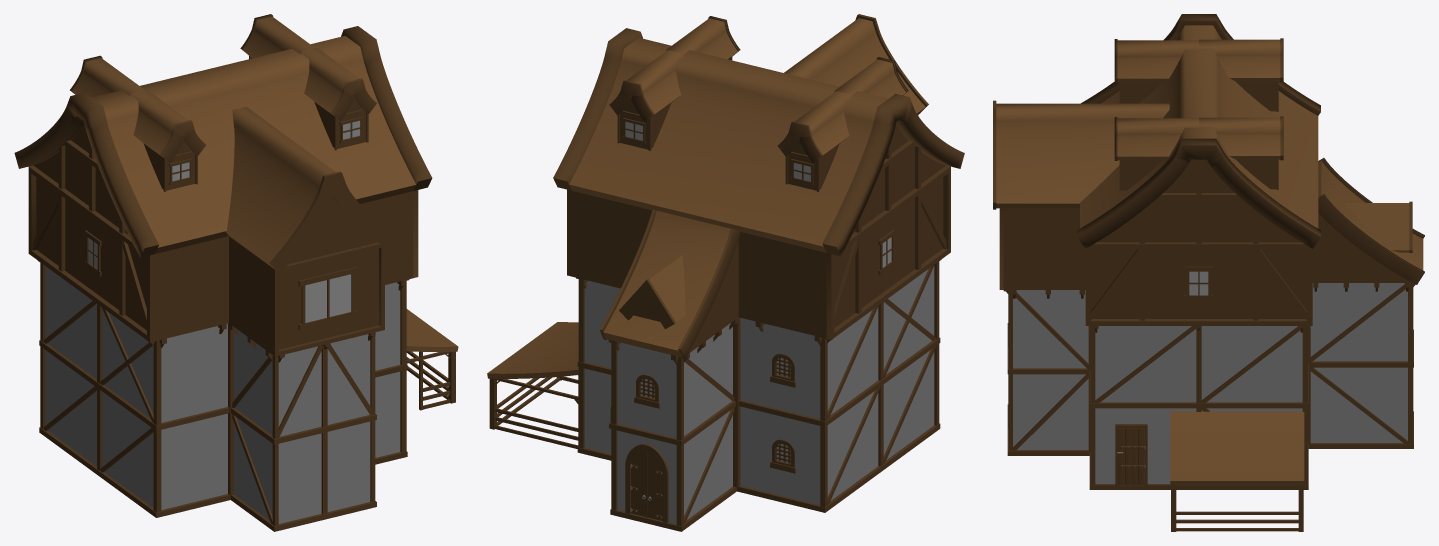
3 views of the same model, side by side, from view 1: azimuth 30°, elevation 25°; view 2: azimuth 150°, elevation 25°; view 3: azimuth 270°, elevation 25° (orthographic). The views are drawn at different scales.
Visible parts, largest first — view 1: Spline (×6), LeftWall (×6), RoofSpline (×6), BackWall (×3), FrontWall (×3), Spline 2D (×9), Cube (×12), Extrusion Spline (×2), Plank (×2); view 2: Spline (×5), RightWall (×5), RoofSpline (×11), BackWall (×3), Spline 2D (×8), Cube (×10), FrontWall (×2), Extrusion Spline (×2), Plank (×2); view 3: Spline (×10), FrontWall (×3), RoofSpline (×8), RightWall (×3), LeftWall (×2), Spline 2D (×10), Extrusion Spline (×2), Cube (×10).
Part boxes in pixels (bbox=[...]): Spline (×6): bbox=[14, 26, 458, 524]; LeftWall (×6): bbox=[154, 191, 413, 523]; RoofSpline (×6): bbox=[72, 16, 395, 273]; BackWall (×3): bbox=[36, 177, 153, 507]; FrontWall (×3): bbox=[279, 248, 377, 523]; Spline 2D (×9): bbox=[28, 165, 418, 531]; Cube (×12): bbox=[40, 102, 406, 525]; Extrusion Spline (×2): bbox=[34, 124, 377, 263]; Plank (×2): bbox=[160, 78, 376, 162]; Spline (×5): bbox=[487, 28, 964, 523]; RightWall (×5): bbox=[572, 191, 826, 523]; RoofSpline (×11): bbox=[599, 14, 928, 359]; BackWall (×3): bbox=[827, 177, 943, 500]; Spline 2D (×8): bbox=[577, 165, 950, 531]; Cube (×10): bbox=[578, 103, 939, 526]; FrontWall (×2): bbox=[620, 342, 675, 523]; Extrusion Spline (×2): bbox=[688, 125, 945, 353]; Plank (×2): bbox=[609, 80, 822, 162]; Spline (×10): bbox=[1013, 14, 1407, 484]; FrontWall (×3): bbox=[1090, 249, 1307, 483]; RoofSpline (×8): bbox=[996, 39, 1424, 284]; RightWall (×3): bbox=[1003, 208, 1088, 449]; LeftWall (×2): bbox=[1310, 283, 1407, 442]; Spline 2D (×10): bbox=[1007, 242, 1413, 489]; Extrusion Spline (×2): bbox=[1097, 159, 1412, 282]; Cube (×10): bbox=[1009, 81, 1413, 523].
Bounding box in the file's own units: 12.1 × 11.98 × 13.29.
